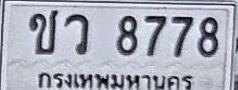7: (172, 16, 194, 57), (144, 15, 166, 56)
8: (197, 16, 218, 57), (116, 15, 137, 55)
A10: (28, 9, 58, 54)
A37: (64, 12, 89, 55)
BKK: (34, 69, 196, 90)
